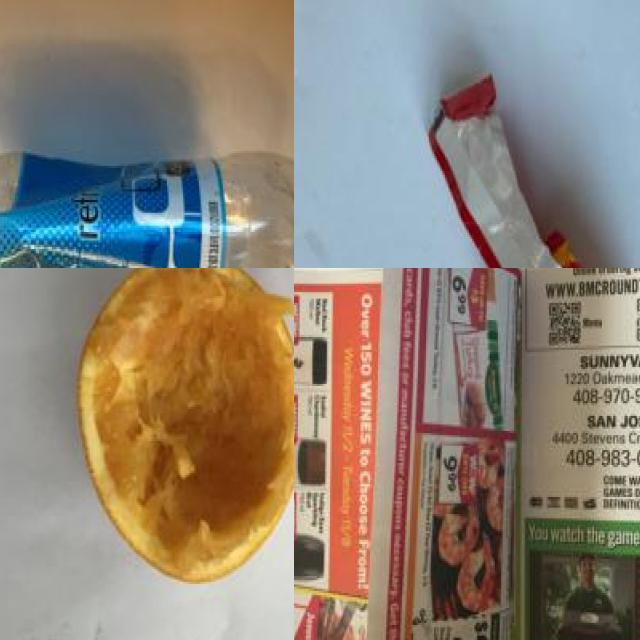compost: (66, 268, 294, 607)
paper: (294, 268, 640, 640)
plastic: (0, 143, 294, 268)
trash: (405, 54, 640, 268)
